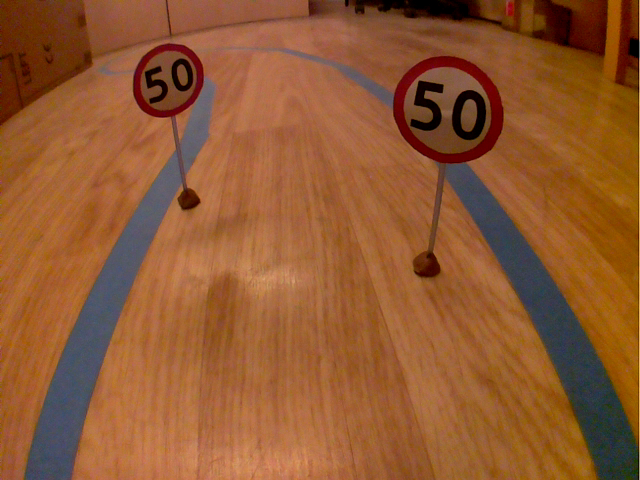Ograniczenie 50: (388, 50, 507, 169), (130, 41, 207, 121)
